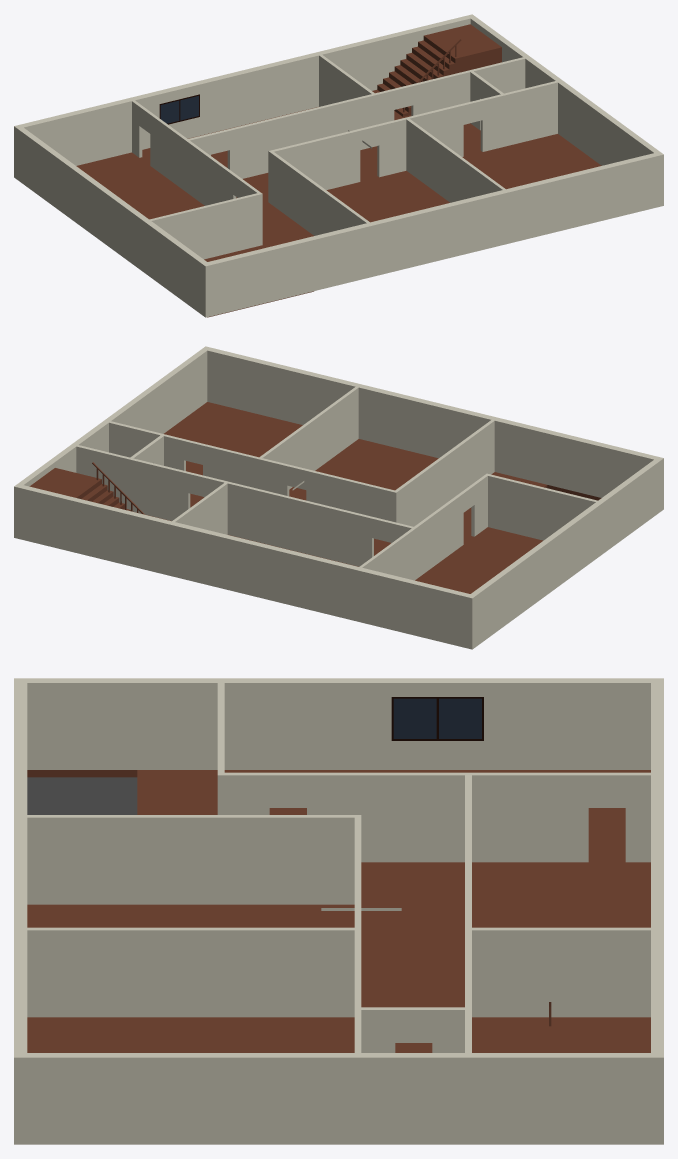
The model's file is InnerHouse (1).fbx.
3 views of the same model, one above another, from view 1: azimuth 30°, elevation 25°; view 2: azimuth 150°, elevation 25°; view 3: azimuth 270°, elevation 25° (orthographic). The views are drawn at different scales.
Visible parts, largest first — view 1: Cube.000; view 2: Cube.000; view 3: Cube.000.
Boxes of the visible parts, x1,y1,x2,y2 form: Cube.000: (14, 14, 663, 317); Cube.000: (14, 346, 663, 649); Cube.000: (14, 678, 663, 1144).
Size of the model in its own units: 729 by 101 by 528.
